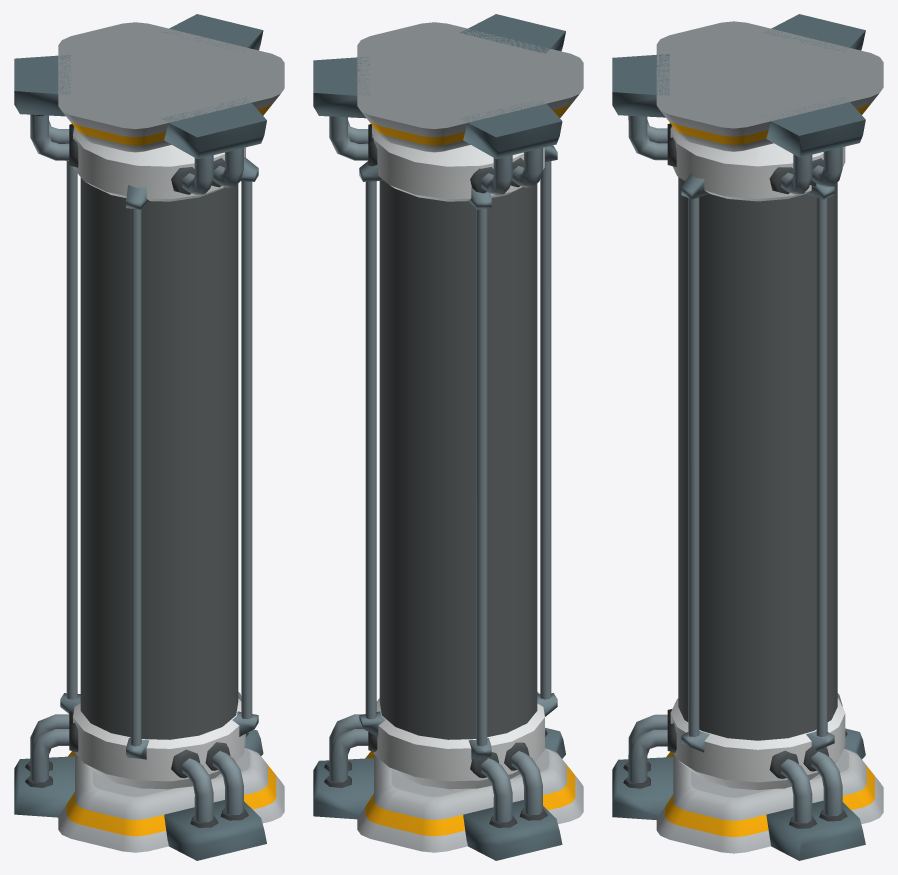
Rendered from Mini_farm_001.fbx.
3 views of the same model, side by side, from view 1: azimuth 30°, elevation 25°; view 2: azimuth 150°, elevation 25°; view 3: azimuth 270°, elevation 25° (orthographic).
Visible parts, largest first — view 1: Mini_farm_001; view 2: Mini_farm_001; view 3: Mini_farm_001.
Boxes of the visible parts, x1,y1,x2,y2 form: Mini_farm_001: (14,14,284,860); Mini_farm_001: (313,14,583,860); Mini_farm_001: (612,14,883,860).
Bounding box in the file's own units: 149 × 140 × 413.
